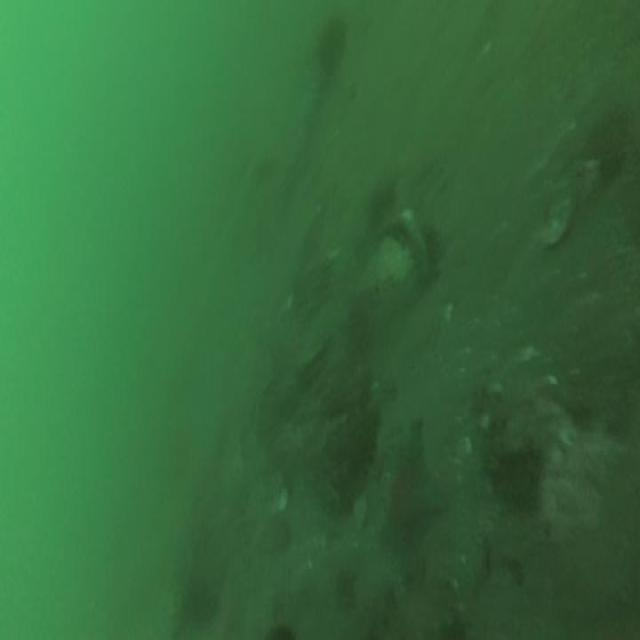starfish: (374, 430, 444, 567)
